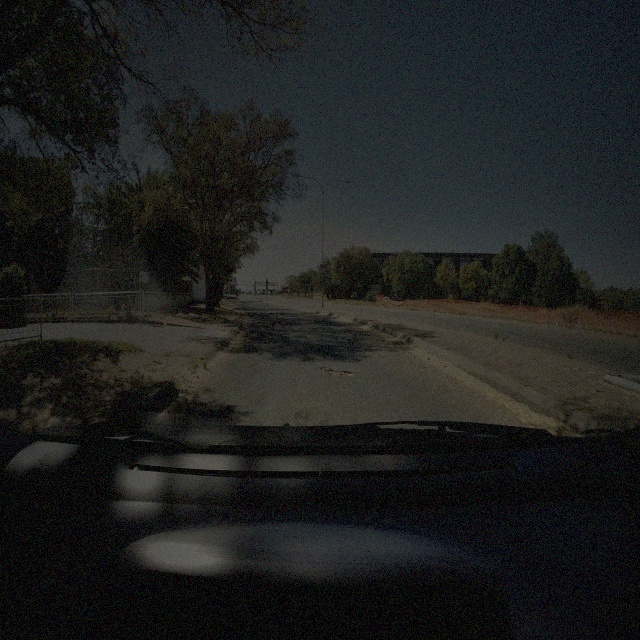pothole: (321, 364, 356, 378)
